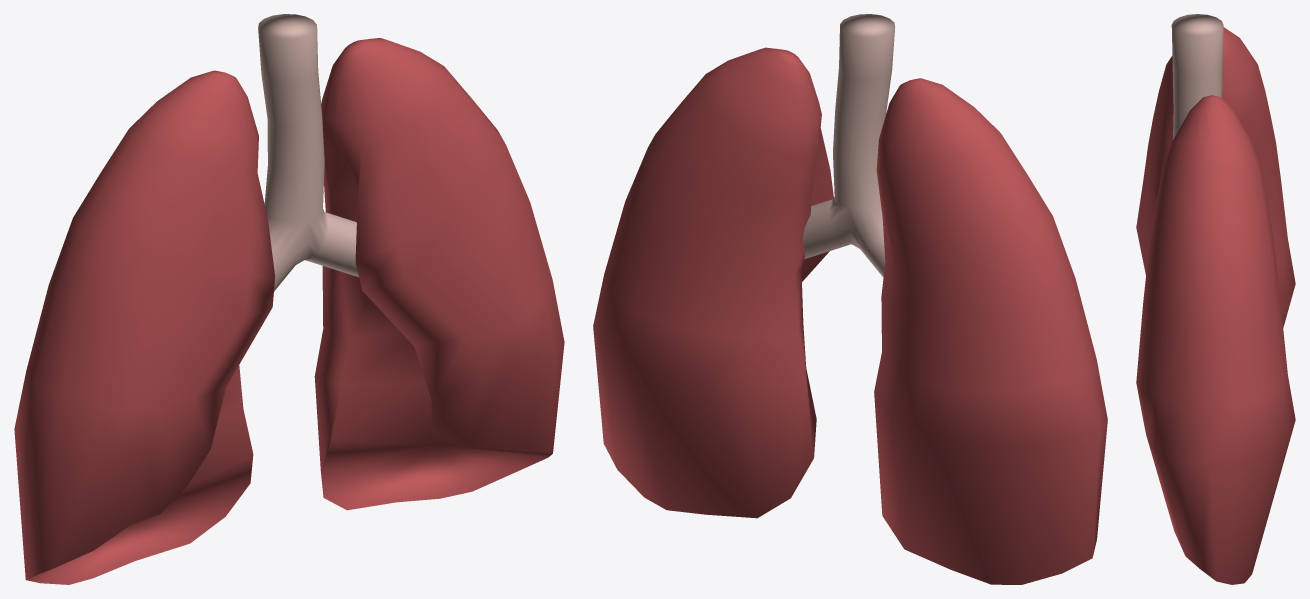
The model's file is lung.fbx.
3 views of the same model, side by side, from view 1: azimuth 30°, elevation 25°; view 2: azimuth 150°, elevation 25°; view 3: azimuth 270°, elevation 25° (orthographic). The views are drawn at different scales.
Visible parts, largest first — view 1: Lung R, Lung L, Trachea; view 2: Lung R, Lung L, Trachea; view 3: Lung L, Lung R, Trachea.
Part boxes in pixels (x1=…): Lung R: x1=14, y1=70, x2=274, y2=584; Lung L: x1=314, y1=38, x2=564, y2=510; Trachea: x1=258, y1=14, x2=358, y2=291; Lung R: x1=874, y1=78, x2=1107, y2=584; Lung L: x1=593, y1=47, x2=833, y2=518; Trachea: x1=802, y1=14, x2=895, y2=277; Lung L: x1=1136, y1=95, x2=1295, y2=584; Lung R: x1=1136, y1=27, x2=1295, y2=327; Trachea: x1=1171, y1=14, x2=1223, y2=139.
Size of the model in its own units: 483 by 470 by 144.
